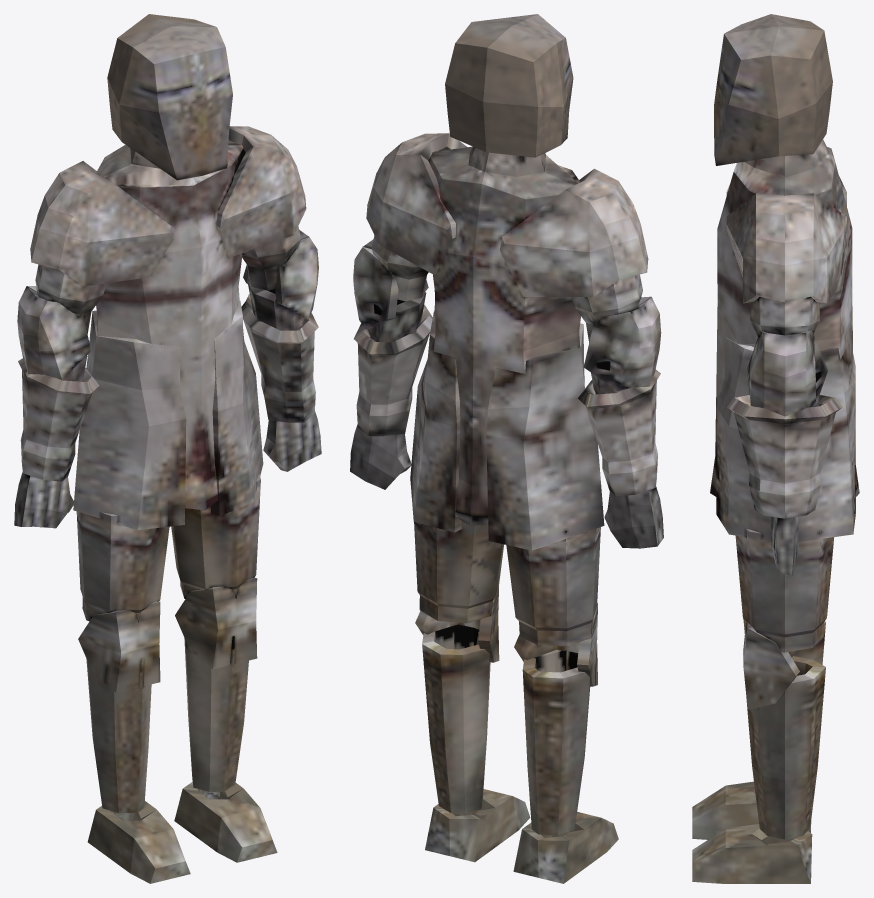
File: Armure_LowPoly.fbx
The picture shows the model from 3 angles, left to right: view 1: azimuth 30°, elevation 25°; view 2: azimuth 150°, elevation 25°; view 3: azimuth 270°, elevation 25°; orthographic projection. The views are drawn at different scales.
Visible parts, largest first — view 1: armadura:Mesh; view 2: armadura:Mesh; view 3: armadura:Mesh.
Part boxes in pixels (bbox=[...]): armadura:Mesh: bbox=[14, 14, 321, 883]; armadura:Mesh: bbox=[350, 14, 663, 883]; armadura:Mesh: bbox=[692, 14, 859, 883].
Bounding box in the file's own units: 1.52 × 3.91 × 0.72.
